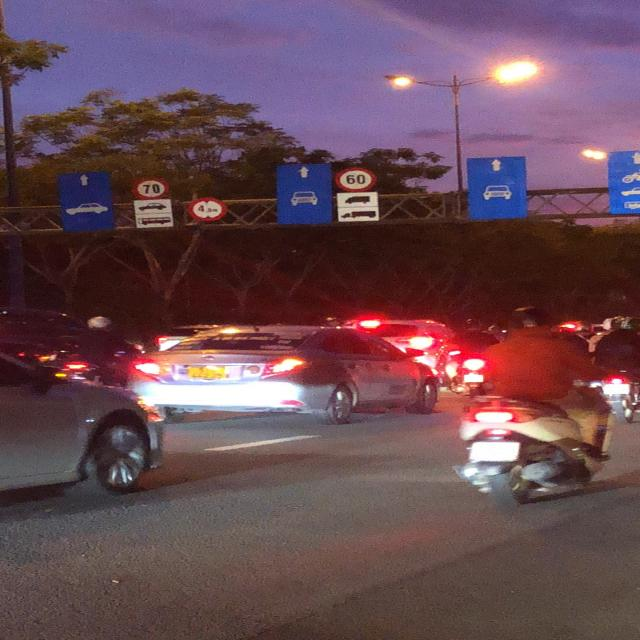Bien bao han che chieu cao: (186, 197, 230, 225)
Bien bao toc do toi da cho phep: (332, 164, 378, 193), (127, 176, 168, 200)
